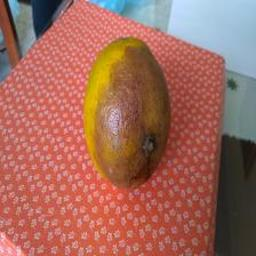Orange Rotten: (72, 22, 182, 191)
